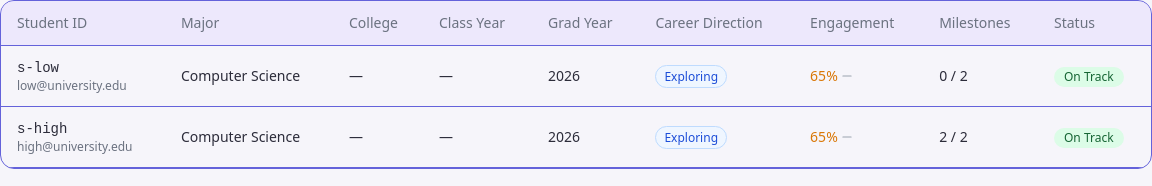
StudentTable › clicking Milestones header sorts rows by completion rate
Expected: the row that starts with "s-low" is shown, [17,60,59,76]
Click the column heading "Milestones" at [981, 23], box [923,1,1038,46]
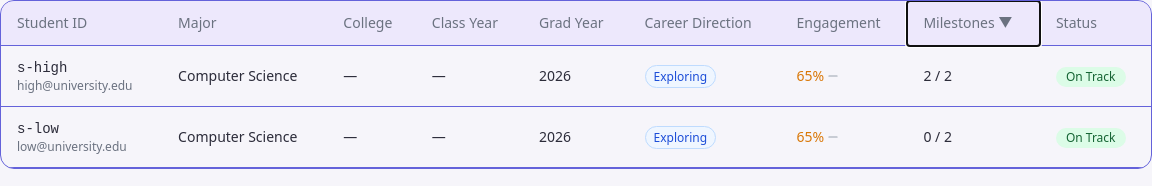
Expected: the row that starts with "s-high" is shown, [17,60,67,76]
Result: the column heading "Milestones ▼" is shown
// Second click → ascending (lower first)
Click the column heading "Milestones ▼" at [974, 23], box [907,1,1040,46]
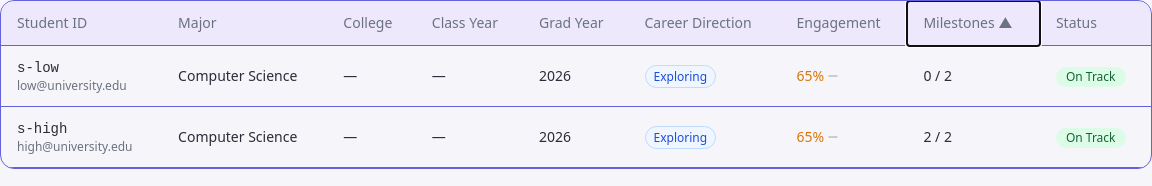
Expected: the row that starts with "s-low" is shown, [17,60,59,76]
Result: the column heading "Milestones ▲" is shown at [907,1,1040,46]
